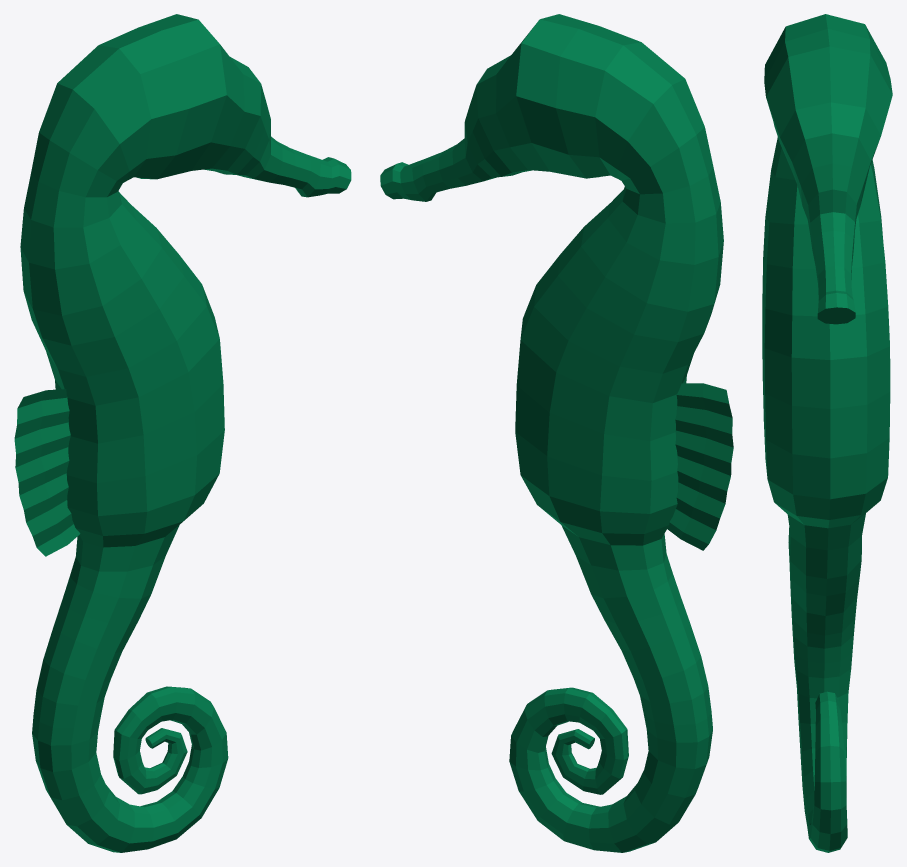
File: seahorse.obj
The picture shows the model from 3 angles, left to right: view 1: azimuth 30°, elevation 25°; view 2: azimuth 150°, elevation 25°; view 3: azimuth 270°, elevation 25°; orthographic projection.
Parts seen in each view (by area): view 1: Cube.002_Cube.000; view 2: Cube.002_Cube.000; view 3: Cube.002_Cube.000.
Part boxes in pixels (x1,y1,x2,y2): Cube.002_Cube.000: [14, 14, 351, 852]; Cube.002_Cube.000: [380, 14, 733, 852]; Cube.002_Cube.000: [762, 14, 892, 852].
Size of the model in its own units: 0.9576 by 2.2 by 0.3157.
